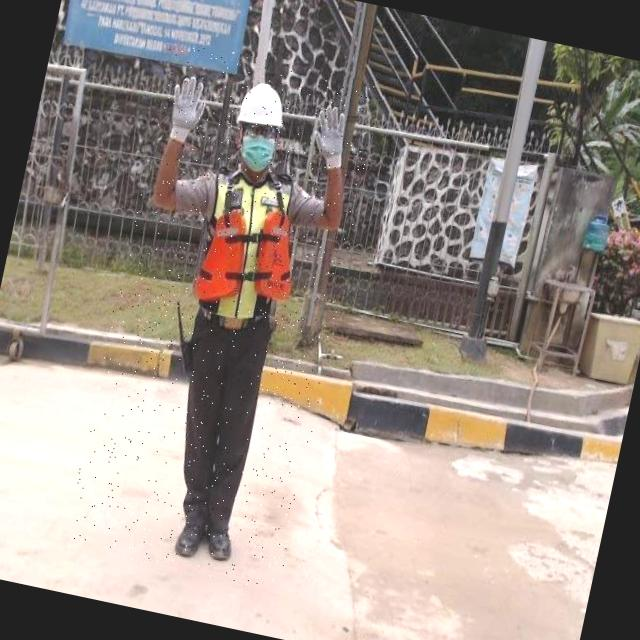boots: (168, 516, 209, 566), (201, 522, 242, 568)
gloves: (294, 90, 374, 174), (152, 63, 224, 147)
helmet: (232, 73, 296, 138)
vest: (184, 157, 318, 339)
